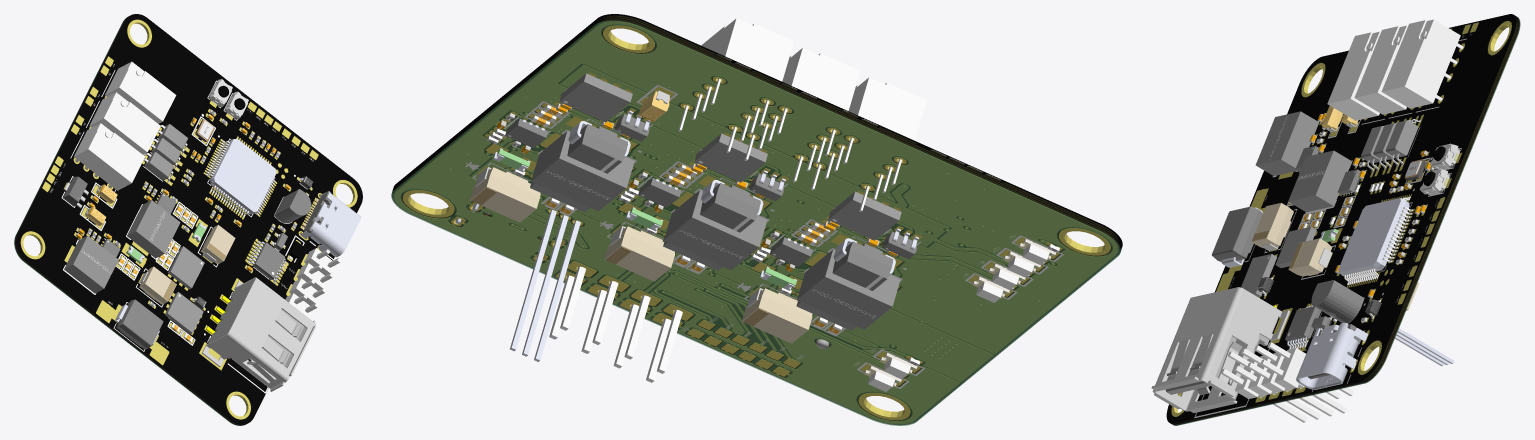
Rendered from rele.glb.
3 views of the same model, side by side, from view 1: azimuth 30°, elevation 25°; view 2: azimuth 150°, elevation 25°; view 3: azimuth 270°, elevation 25° (orthographic). The views are drawn at different scales.
Visible parts, largest first — view 1: Solder_Top, ComponentBody, ComponentBody.89, ComponentBody.330, ComponentBody.332, ComponentBody.331, Top, ComponentBody.132, Core, ComponentBody.66, ComponentBody.281, ComponentBody.18 (+26 smaller); view 2: Solder_Bottom, GND, Core.2, +5V, BAT_IN, ComponentBody.332, ComponentBody.527, ComponentBody.578, ComponentBody.436, ComponentBody.330, ComponentBody.331, Bottom (+21 smaller); view 3: Solder_Top, ComponentBody, ComponentBody.332, ComponentBody.89, ComponentBody.132, ComponentBody.281, ComponentBody.66, ComponentBody.330, ComponentBody.331, Core, ComponentBody.18, GND (+24 smaller).
Part boxes in pixels (x1,y1,x2,y2): Solder_Top: (16, 14, 362, 424); ComponentBody: (202, 277, 316, 391); ComponentBody.89: (209, 138, 276, 214); ComponentBody.330: (74, 123, 144, 190); ComponentBody.332: (105, 61, 176, 123); ComponentBody.331: (89, 92, 160, 154); Top: (50, 64, 333, 393); ComponentBody.132: (300, 192, 361, 257); Core: (15, 18, 357, 425); ComponentBody.66: (64, 235, 118, 293); ComponentBody.281: (127, 200, 180, 258); ComponentBody.18: (116, 299, 163, 349); Solder_Bottom: (391, 20, 1120, 425); GND: (394, 16, 1118, 423); Core.2: (392, 18, 1121, 424); +5V: (529, 65, 1008, 275); BAT_IN: (541, 193, 993, 381); ComponentBody.332: (678, 18, 793, 152); ComponentBody.527: (797, 249, 900, 329); ComponentBody.578: (664, 190, 767, 270); ComponentBody.436: (531, 131, 634, 211); ComponentBody.330: (811, 77, 926, 211); ComponentBody.331: (744, 48, 860, 182); Bottom: (465, 85, 1063, 388); Solder_Top: (1166, 14, 1516, 423); ComponentBody: (1151, 287, 1290, 413); ComponentBody.332: (1381, 19, 1463, 108); ComponentBody.89: (1338, 198, 1409, 276); ComponentBody.132: (1296, 322, 1367, 389); ComponentBody.281: (1288, 150, 1351, 212); ComponentBody.66: (1255, 111, 1318, 175); ComponentBody.330: (1327, 31, 1380, 120); ComponentBody.331: (1354, 25, 1407, 114); Core: (1170, 15, 1517, 424); ComponentBody.18: (1212, 206, 1262, 262); GND: (1171, 25, 1518, 411).
Size of the model in its own units: 7.33 by 5.93 by 4.76.
